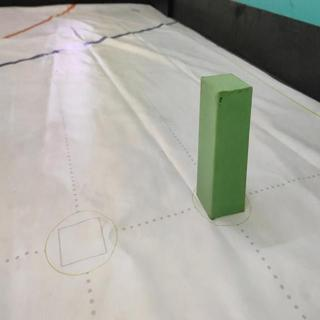greenbox: (197, 70, 254, 221)
